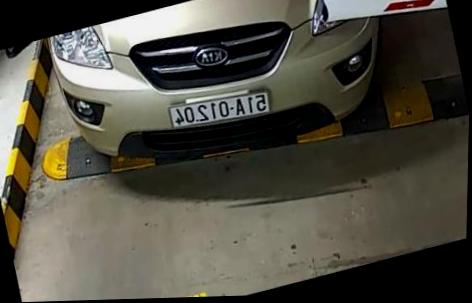License_Plate: (166, 86, 274, 134)
